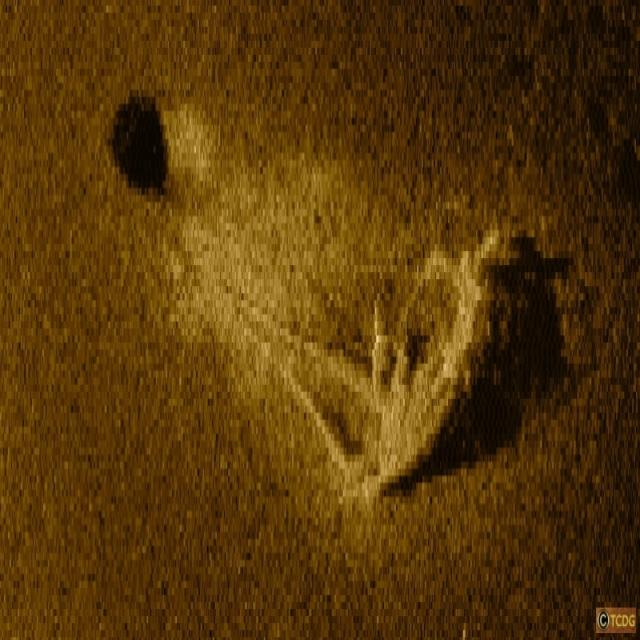ship: (367, 232, 502, 494)
